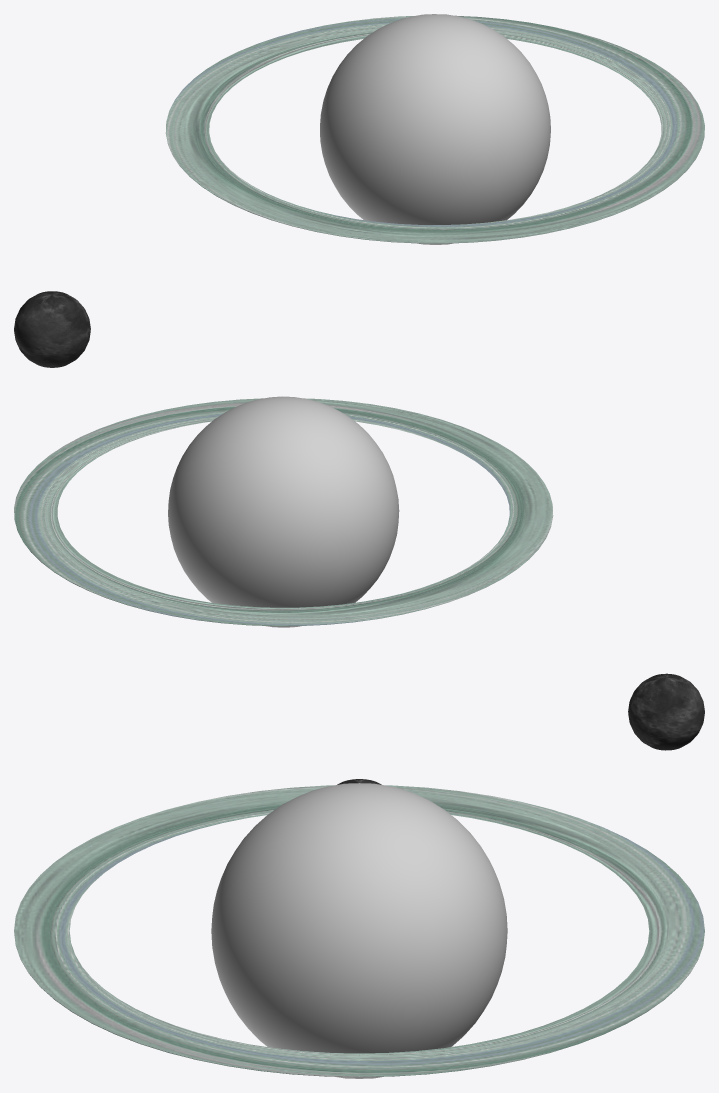
The model's file is planet_rimlit.fbx.
The picture shows the model from 3 angles, top to bottom: view 1: azimuth 30°, elevation 25°; view 2: azimuth 150°, elevation 25°; view 3: azimuth 270°, elevation 25°; orthographic projection. The views are drawn at different scales.
Visible parts, largest first — view 1: planet_green, ring, Moon; view 2: planet_green, ring, Moon; view 3: planet_green, ring.
Part boxes in pixels (x1,y1,x2,y2): planet_green: [320, 14, 550, 244]; ring: [165, 15, 704, 243]; Moon: [14, 291, 90, 367]; planet_green: [168, 396, 399, 627]; ring: [14, 398, 553, 626]; Moon: [628, 673, 704, 750]; planet_green: [211, 783, 507, 1078]; ring: [14, 785, 704, 1077].
Bounding box in the file's own units: 15592 × 5646 × 11209.
